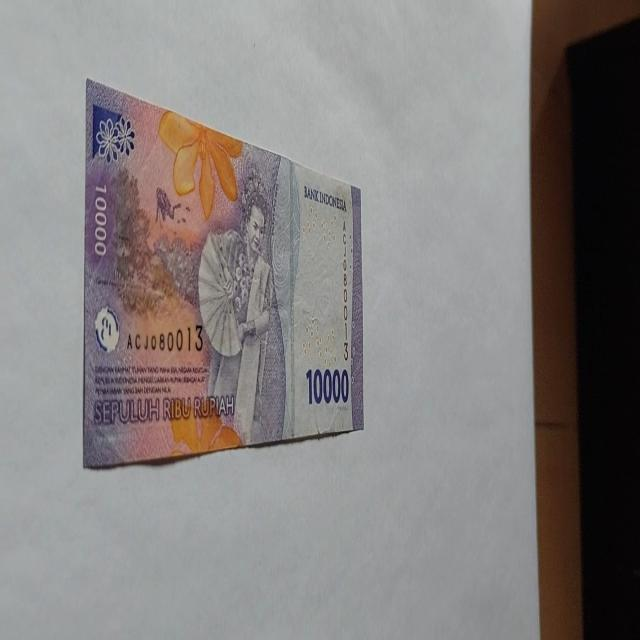sepuluh ribu rupiah: (82, 78, 364, 470), (302, 183, 348, 213)
